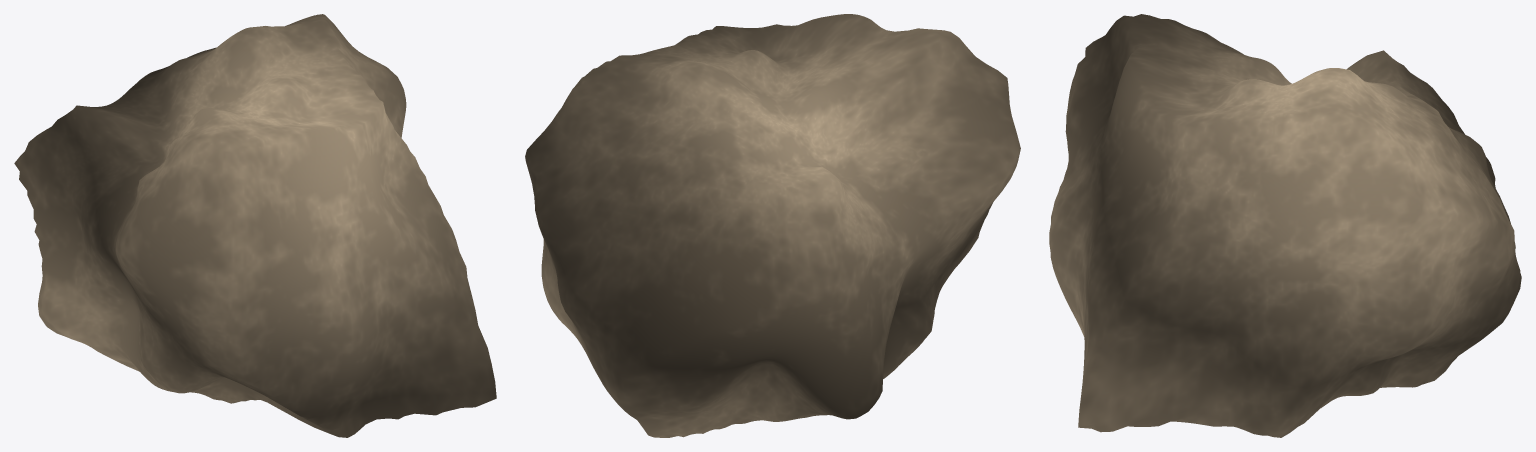
Rendered from asteroid-crag.glb.
3 views of the same model, side by side, from view 1: azimuth 30°, elevation 25°; view 2: azimuth 150°, elevation 25°; view 3: azimuth 270°, elevation 25° (orthographic). The views are drawn at different scales.
Parts seen in each view (by area): view 1: asteroid_4005; view 2: asteroid_4005; view 3: asteroid_4005.
Part boxes in pixels (box(x1,y1,x2,y2)): asteroid_4005: box(14, 14, 496, 437); asteroid_4005: box(525, 14, 1020, 437); asteroid_4005: box(1049, 14, 1521, 437).
Size of the model in its own units: 69.7 by 61.27 by 82.88.
Materials: 1 (1 with a texture image).
